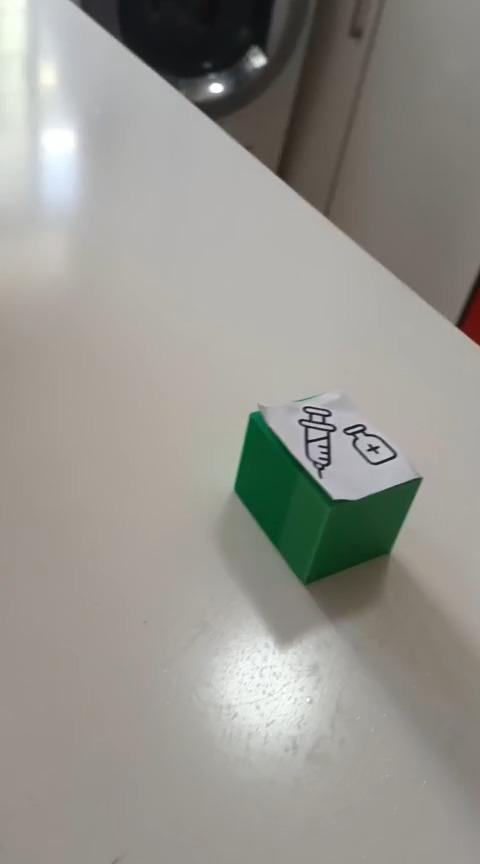antiseptic cream: (232, 388, 423, 586)
